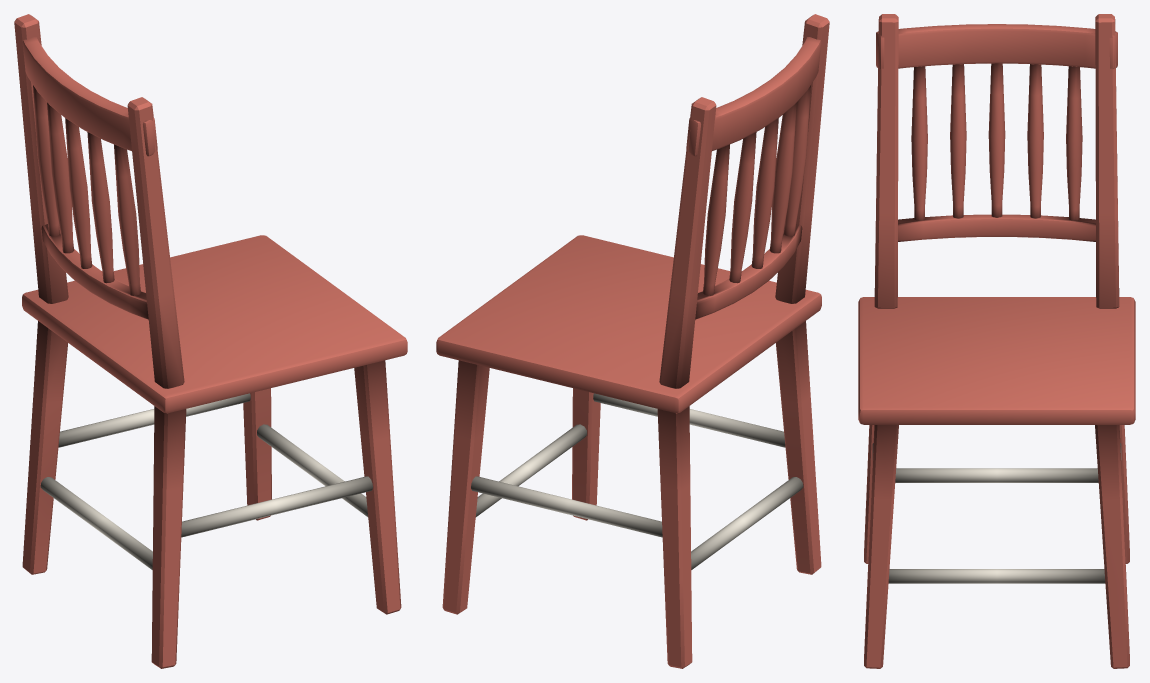
File: junk_chair_wood.glb
3 renders of one model, left to right at view 1: azimuth 30°, elevation 25°; view 2: azimuth 150°, elevation 25°; view 3: azimuth 270°, elevation 25°, orthographic. The views are drawn at different scales.
Parts seen in each view (by area): view 1: PART; view 2: PART; view 3: PART.
Part boxes in pixels (box(x1,y1,x2,y2)): PART: box(14, 14, 407, 668); PART: box(436, 14, 829, 668); PART: box(858, 14, 1135, 668).
Size of the model in its own units: 0.4737 by 0.9223 by 0.43.
